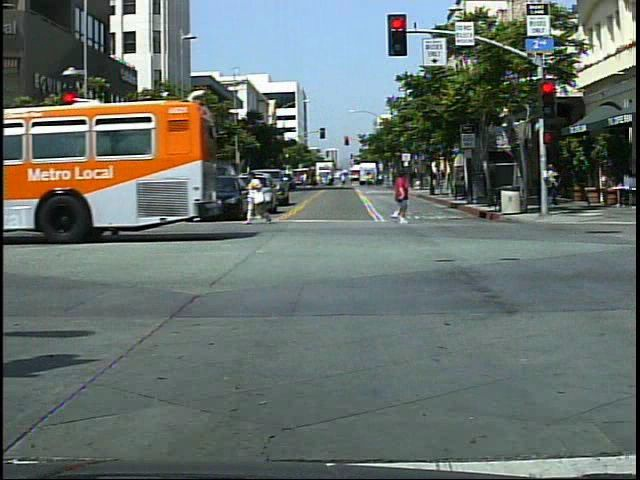person: (133, 169, 164, 235), (247, 166, 275, 229), (388, 166, 413, 228), (546, 162, 564, 211)
